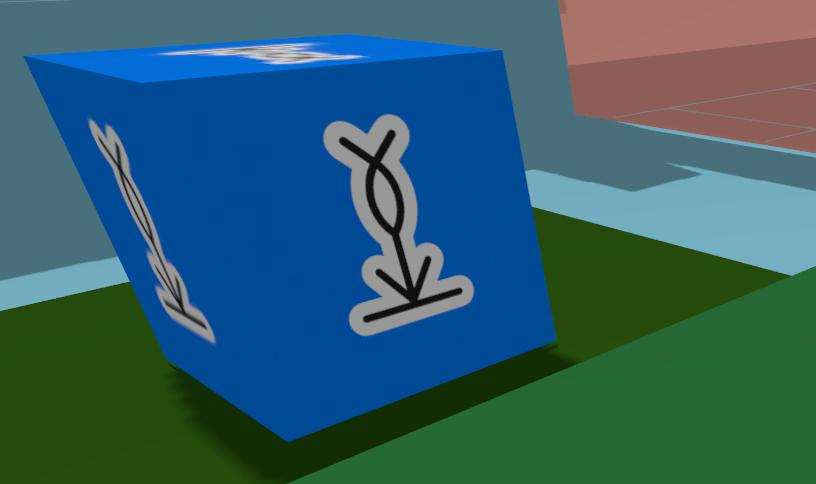KFS_REAL: (25, 34, 553, 439), (325, 115, 473, 335), (88, 119, 213, 344)
